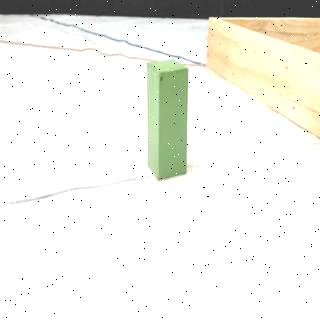greenbox: (146, 59, 190, 182)
